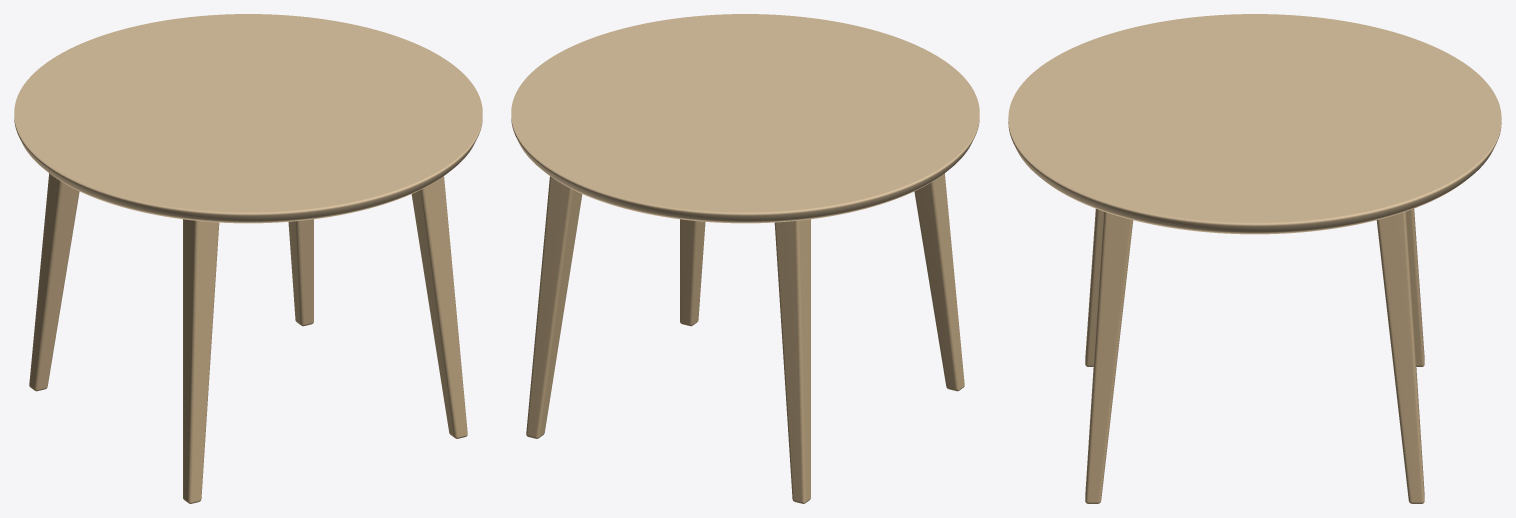
The model's file is dining-table.glb.
3 views of the same model, side by side, from view 1: azimuth 30°, elevation 25°; view 2: azimuth 150°, elevation 25°; view 3: azimuth 270°, elevation 25° (orthographic). The views are drawn at different scales.
Visible parts, largest first — view 1: LISABO round ash tabletop, LISABO solid birch tapered leg, LISABO solid birch tapered leg.002, LISABO solid birch tapered leg.001, LISABO solid birch tapered leg.003; view 2: LISABO round ash tabletop, LISABO solid birch tapered leg.001, LISABO solid birch tapered leg.003, LISABO solid birch tapered leg, LISABO solid birch tapered leg.002; view 3: LISABO round ash tabletop, LISABO solid birch tapered leg.002, LISABO solid birch tapered leg.003, LISABO solid birch tapered leg, LISABO solid birch tapered leg.001.
Part boxes in pixels (x1,y1,x2,y2): LISABO round ash tabletop: (14,14,482,223); LISABO solid birch tapered leg: (183,219,219,503); LISABO solid birch tapered leg.002: (411,176,467,438); LISABO solid birch tapered leg.001: (29,173,79,391); LISABO solid birch tapered leg.003: (288,219,313,326); LISABO round ash tabletop: (511,14,979,223); LISABO solid birch tapered leg.001: (774,219,810,503); LISABO solid birch tapered leg.003: (526,176,582,438); LISABO solid birch tapered leg: (914,173,964,391); LISABO solid birch tapered leg.002: (680,219,705,326); LISABO round ash tabletop: (1008,14,1501,234); LISABO solid birch tapered leg.002: (1085,211,1133,503); LISABO solid birch tapered leg.003: (1376,211,1424,503); LISABO solid birch tapered leg: (1085,209,1103,366); LISABO solid birch tapered leg.001: (1406,209,1424,366).
Size of the model in its own units: 1.05 by 0.74 by 1.05.
